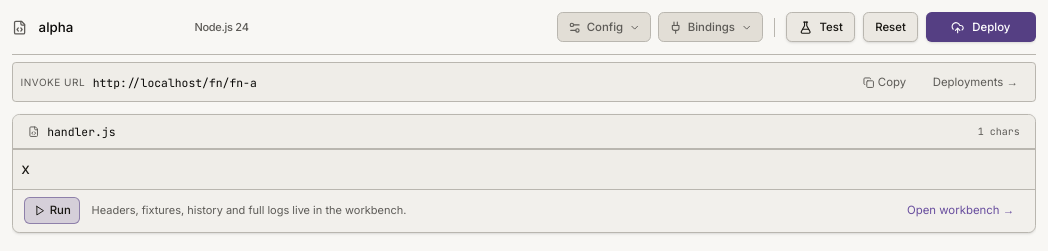
Test: editor result strip › picks the exception, not the last stack frame, out of a Node traceback
The image size is (1048, 251).
Click the button with class "run-btn". click: (52, 211)
box: [24, 197, 80, 224]
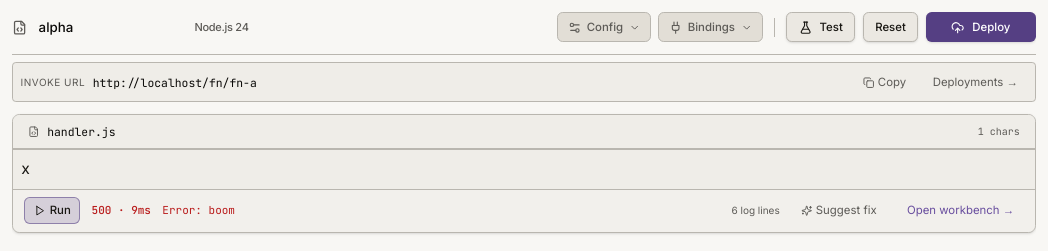
Result: the text "Error: boom" is shown at [162, 203, 235, 217]
Result: the message "500 · 9ms Error: boom 6 log lines" is shown at [92, 202, 780, 219]
